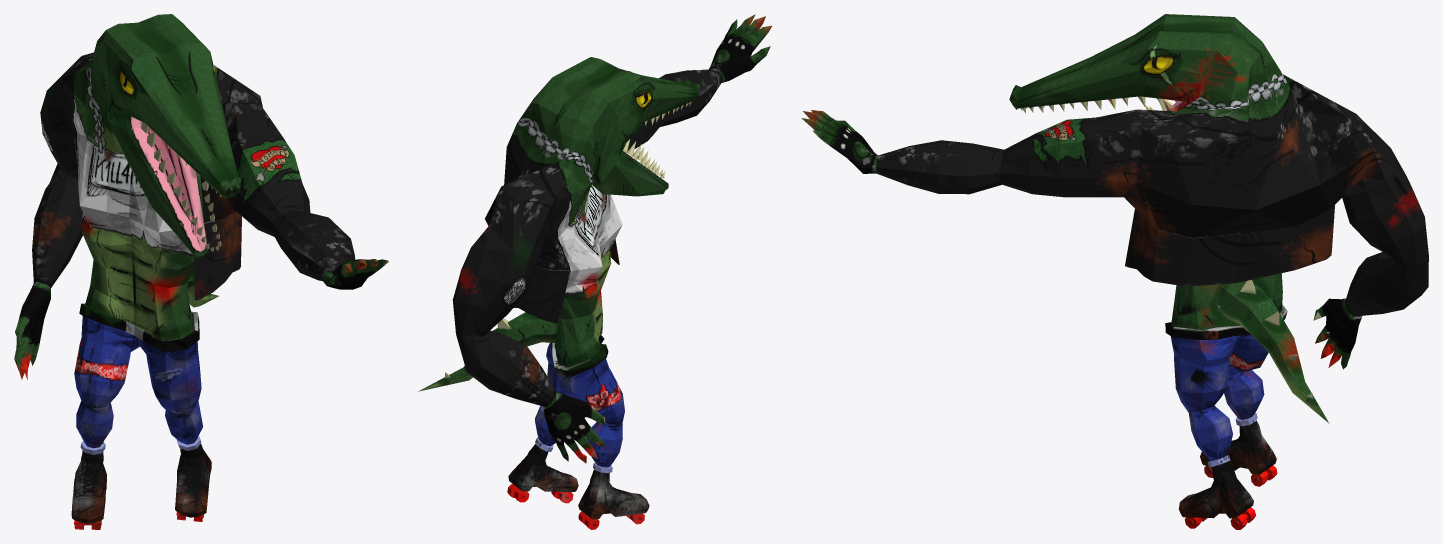
Rendered from cocodrilaBonesSelect_000030.obj.
The picture shows the model from 3 angles, left to right: view 1: azimuth 30°, elevation 25°; view 2: azimuth 150°, elevation 25°; view 3: azimuth 270°, elevation 25°; orthographic projection. The views are drawn at different scales.
Parts seen in each view (by area): view 1: Crocodile.002_Cylinder.002; view 2: Crocodile.002_Cylinder.002; view 3: Crocodile.002_Cylinder.002.
Boxes of the visible parts, box(x1,y1,x2,y2) form: Crocodile.002_Cylinder.002: box(14, 14, 388, 529); Crocodile.002_Cylinder.002: box(418, 14, 771, 529); Crocodile.002_Cylinder.002: box(801, 14, 1428, 529).
Bounding box in the file's own units: 2.91 × 6.63 × 7.82.
